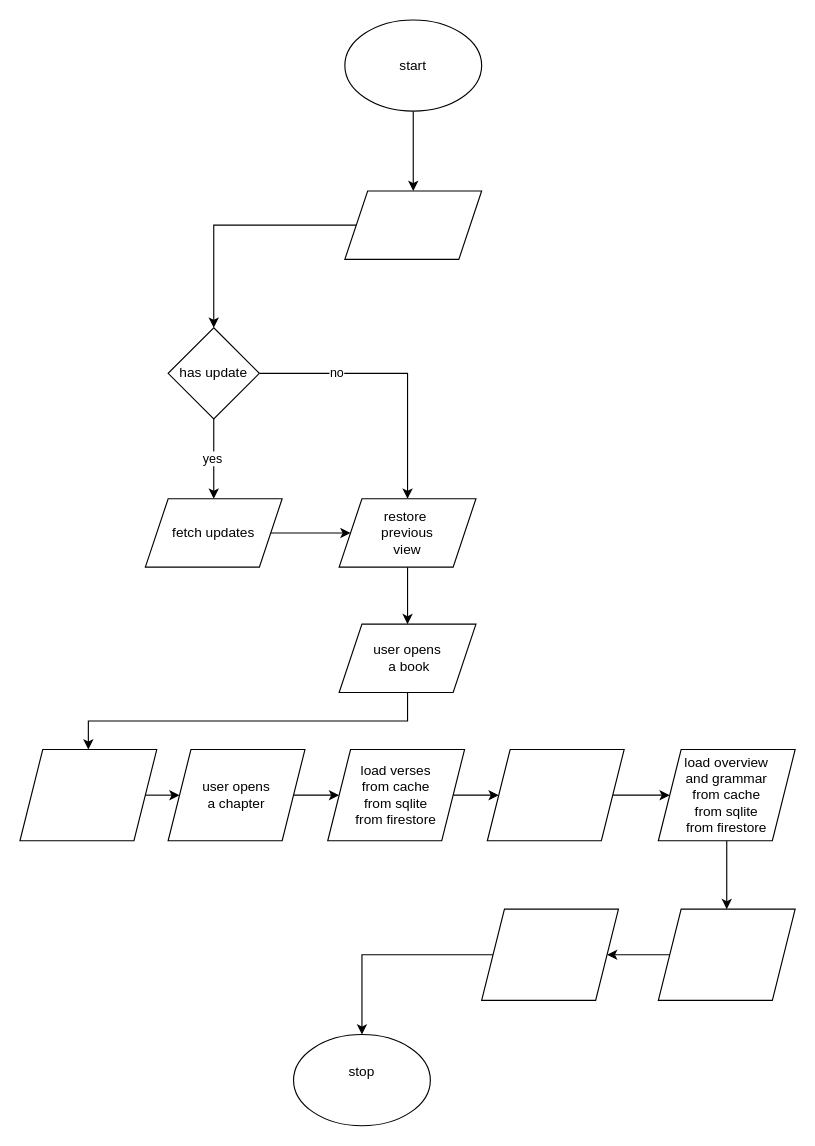
This 815x1146 diagram has some shape labels left out. The centre of each missing label's shape, as x and y in pixels:
check for book updates: point (413, 224)
load chapters form cache from sqlite from firestore: point (88, 794)
return to verse with updated translations: point (549, 954)
user marks word as 'studied': point (726, 954)
user opens a word: point (555, 794)
